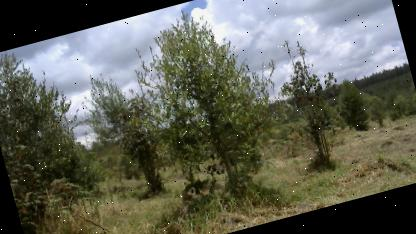tree: (132, 0, 291, 210)
